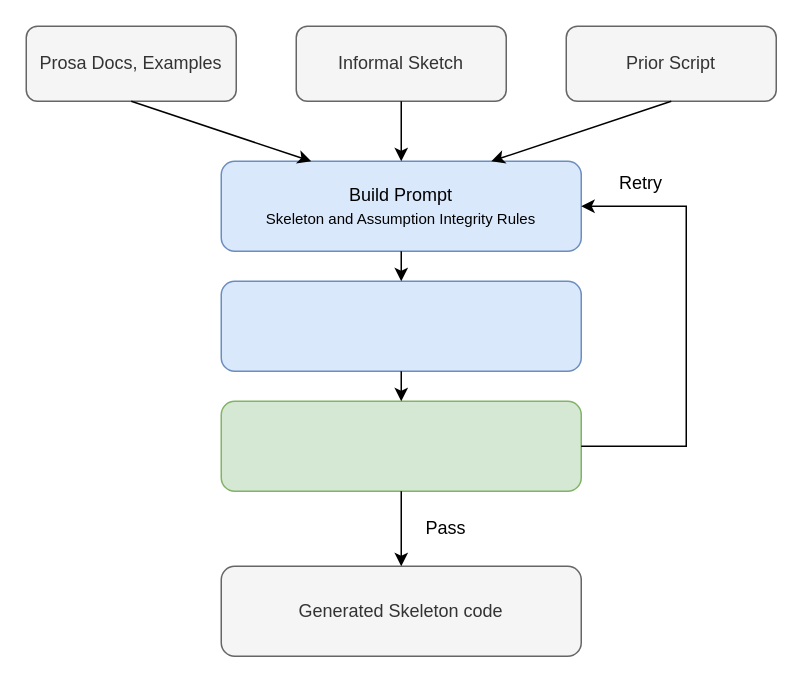
The diagram is 803 pixels wide and 683 high, and some of its shapes have lost their labels. Each missing label, with the box of its shape:
Generate Skeleton Block LLM produces skeleton code, then Normalize: (220, 280, 581, 371)
Validate Admitted only, Assumption Integrity, Compilation check with coqc: (220, 400, 581, 491)
